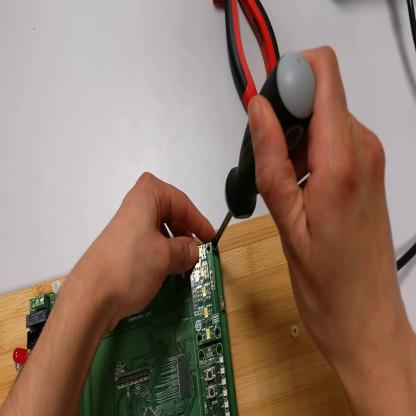hand: (247, 48, 403, 363), (91, 172, 214, 326)
low voltage board: (13, 242, 238, 416)
pliers: (214, 1, 281, 112)
screwdriver-: (212, 52, 318, 246)
working area: (2, 214, 351, 416)
